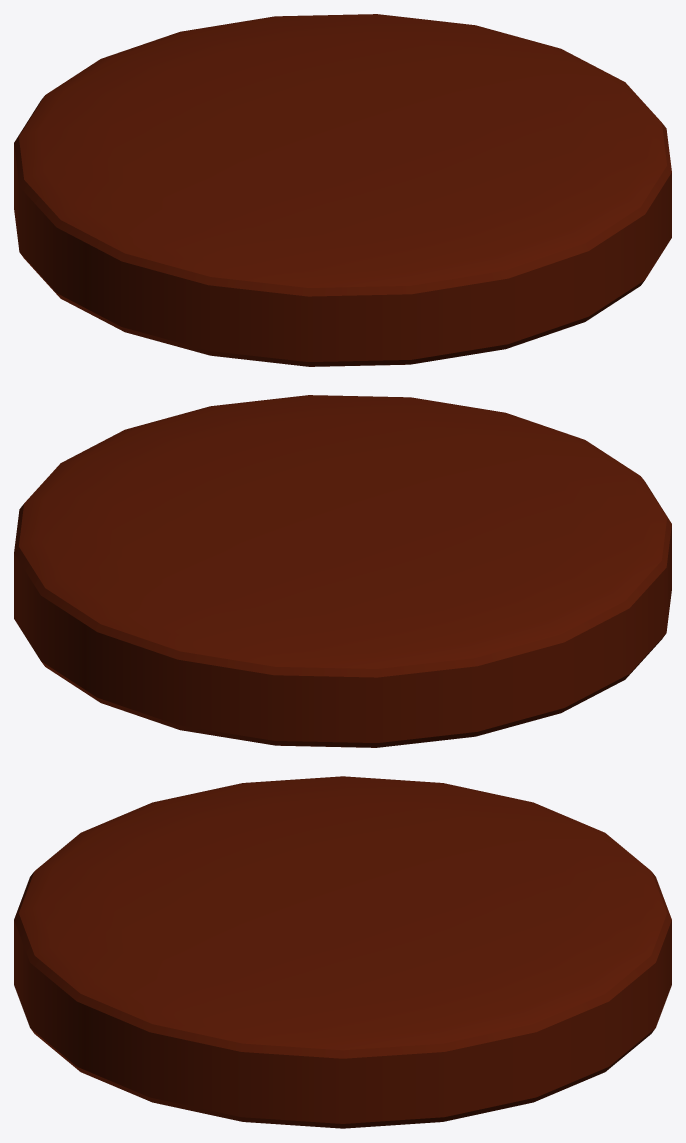
File: Patty.fbx
3 renders of one model, top to bottom at view 1: azimuth 30°, elevation 25°; view 2: azimuth 150°, elevation 25°; view 3: azimuth 270°, elevation 25°, orthographic.
Parts seen in each view (by area): view 1: pCylinder1; view 2: pCylinder1; view 3: pCylinder1.
Boxes of the visible parts, <box> form: pCylinder1: <box>14,14,671,366</box>; pCylinder1: <box>14,395,671,747</box>; pCylinder1: <box>14,776,671,1128</box>.
Bounding box in the file's own units: 12 × 2.35 × 12.
